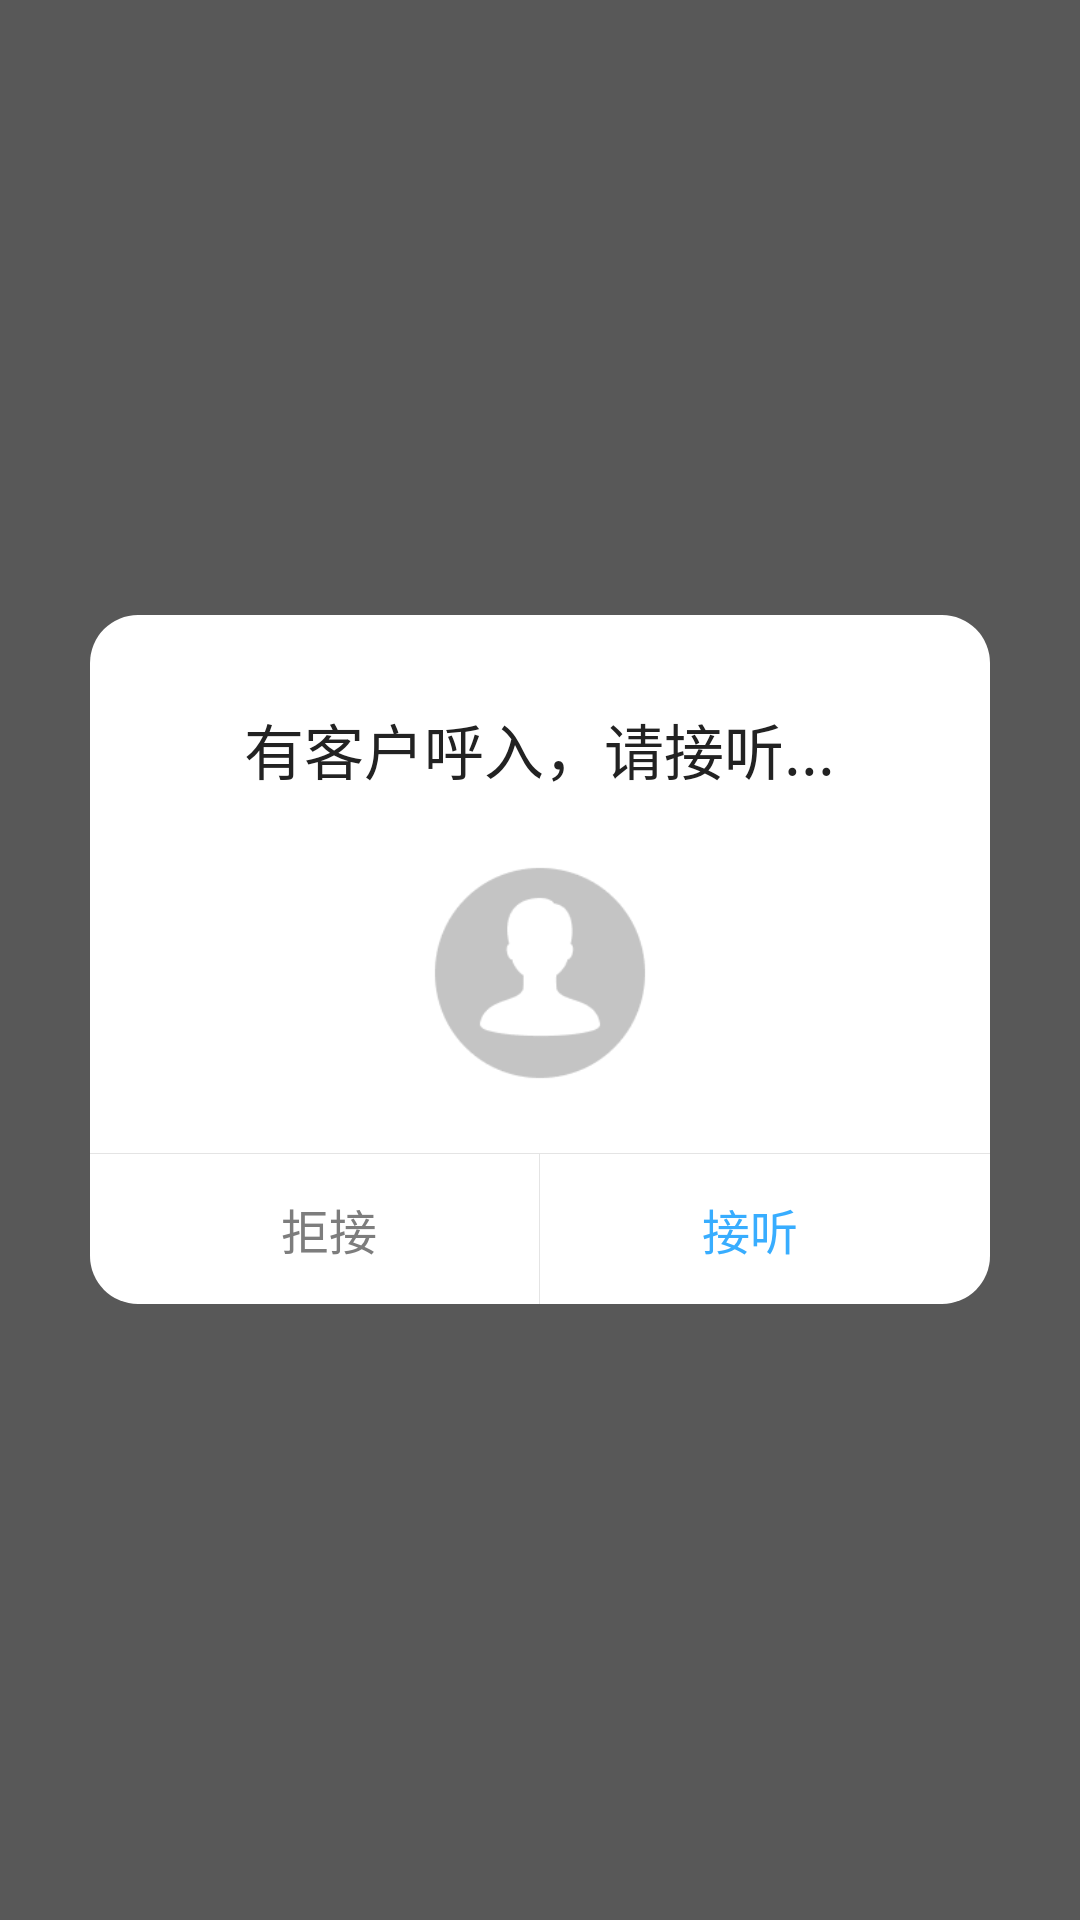

Named icons in this screenshot (1080*1920) and their bounding boxes, (x1, y1, x2, y2):
head: (435, 868, 645, 1078)
